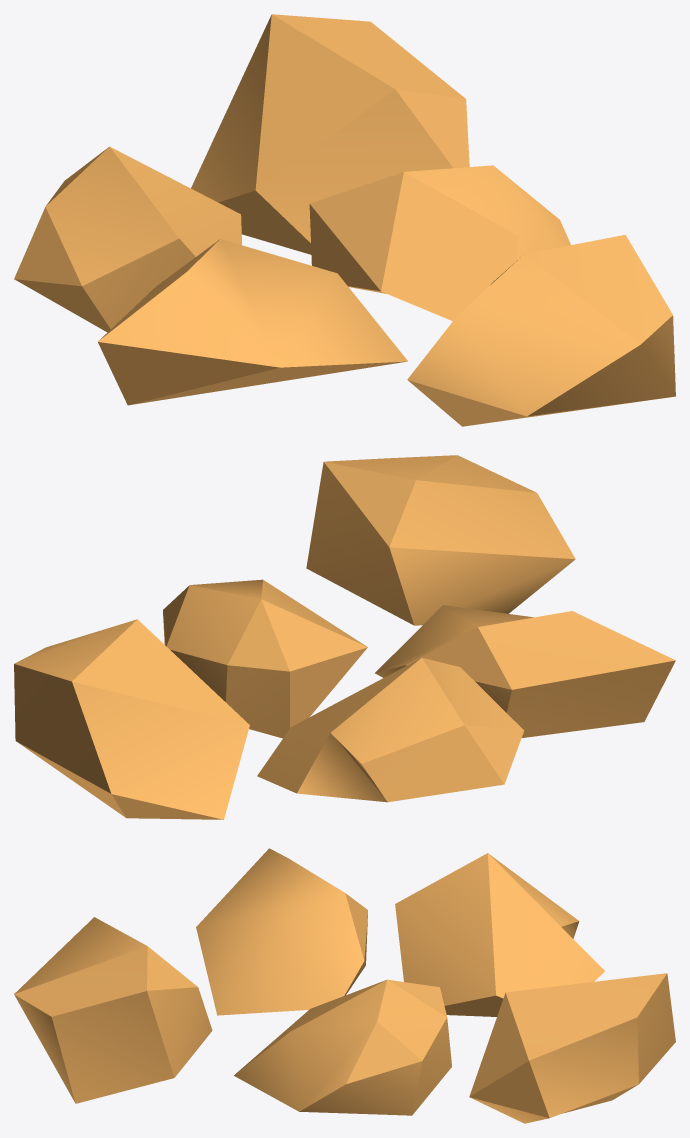
The model's file is collectable_ore.fbx.
3 views of the same model, one above another, from view 1: azimuth 30°, elevation 25°; view 2: azimuth 150°, elevation 25°; view 3: azimuth 270°, elevation 25° (orthographic). The views are drawn at different scales.
Visible parts, largest first — view 1: Copper Ore Visual; view 2: Copper Ore Visual; view 3: Copper Ore Visual.
Boxes of the visible parts, x1,y1,x2,y2 form: Copper Ore Visual: [14, 14, 675, 426]; Copper Ore Visual: [14, 455, 675, 819]; Copper Ore Visual: [14, 848, 675, 1123].
Bounding box in the file's own units: 70.22 × 22.18 × 89.74.
